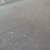others: (1, 1, 31, 13)
